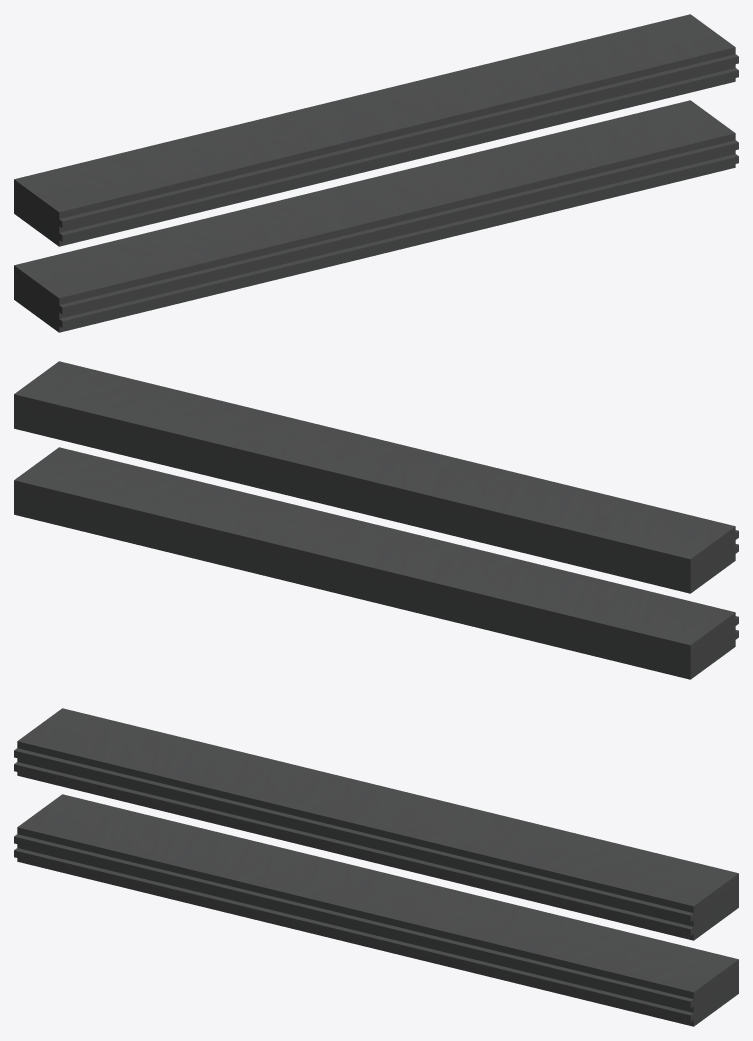
Rendered from KnifeRack.fbx.
The picture shows the model from 3 angles, top to bottom: view 1: azimuth 30°, elevation 25°; view 2: azimuth 150°, elevation 25°; view 3: azimuth 330°, elevation 25°; orthographic projection.
Parts seen in each view (by area): view 1: Kit_1_KnivesRack; view 2: Kit_1_KnivesRack; view 3: Kit_1_KnivesRack.
Boxes of the visible parts, <box> form: Kit_1_KnivesRack: <box>14,14,738,332</box>; Kit_1_KnivesRack: <box>14,361,738,679</box>; Kit_1_KnivesRack: <box>14,708,738,1026</box>.
Bounding box in the file's own units: 34.79 × 5.92 × 4.31.
